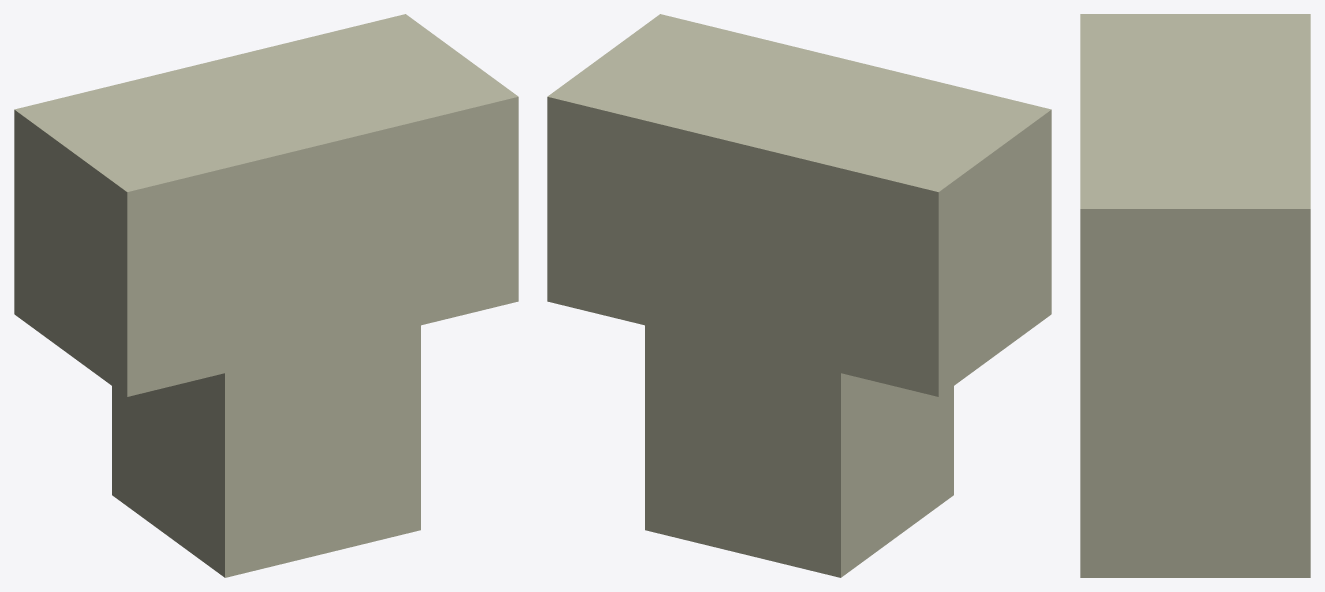
File: sb03.keystone.palette.glb
3 renders of one model, left to right at view 1: azimuth 30°, elevation 25°; view 2: azimuth 150°, elevation 25°; view 3: azimuth 270°, elevation 25°, orthographic. The views are drawn at different scales.
Visible parts, largest first — view 1: VW.key.head.001, VW.key.tip.001; view 2: VW.key.head.001, VW.key.tip.001; view 3: VW.key.head.001, VW.key.tip.001.
Part boxes in pixels (x1,y1,x2,y2): VW.key.head.001: (14, 14, 518, 396); VW.key.tip.001: (112, 325, 420, 577); VW.key.head.001: (547, 14, 1051, 396); VW.key.tip.001: (645, 325, 953, 577); VW.key.head.001: (1080, 14, 1310, 417); VW.key.tip.001: (1080, 417, 1310, 577).
Bounding box in the file's own units: 0.5 × 0.5 × 0.25.
Materials: 1 (1 with a texture image).
